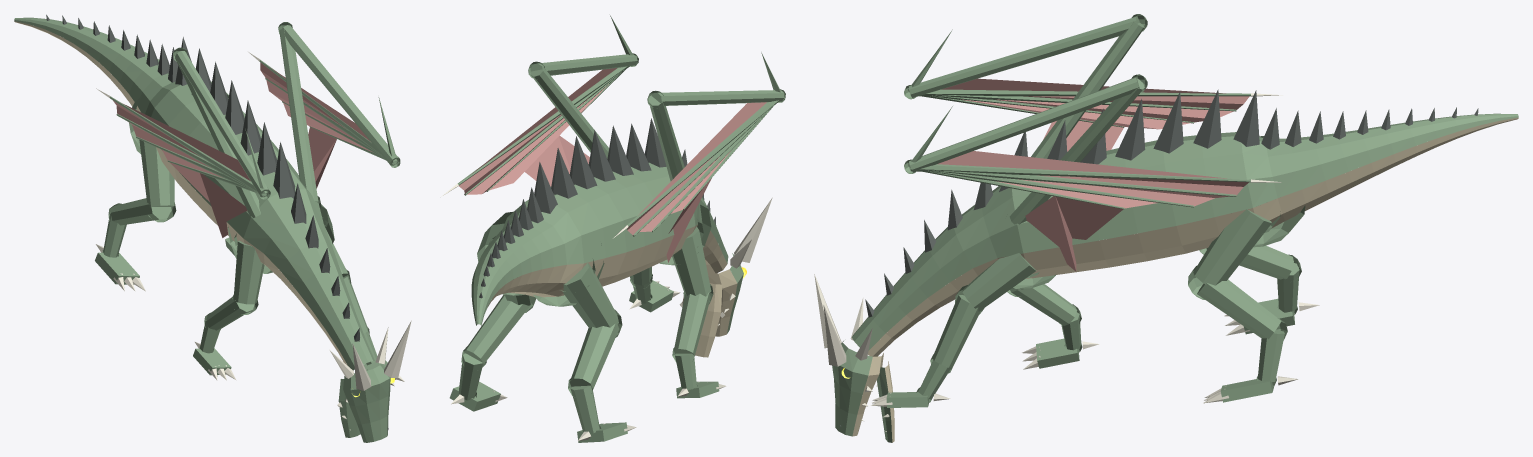
The model's file is dragons-and-wyverns-western-dragon-feeding-efd8448c__36704.glb.
3 renders of one model, left to right at view 1: azimuth 30°, elevation 25°; view 2: azimuth 150°, elevation 25°; view 3: azimuth 270°, elevation 25°, orthographic. The views are drawn at different scales.
Visible parts, largest first — view 1: western-dragon-feeding; view 2: western-dragon-feeding; view 3: western-dragon-feeding.
Boxes of the visible parts, bbox=[...] form: western-dragon-feeding: bbox=[14, 14, 411, 442]; western-dragon-feeding: bbox=[441, 15, 785, 442]; western-dragon-feeding: bbox=[814, 14, 1518, 442].
Size of the model in its own units: 1.79 by 3.67 by 6.09.
